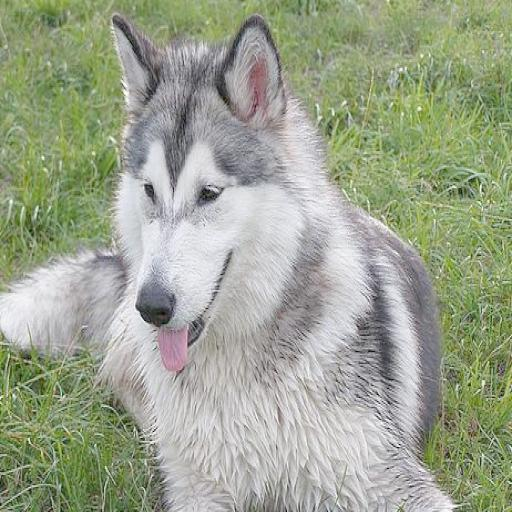dog_face: (100, 14, 287, 353)
